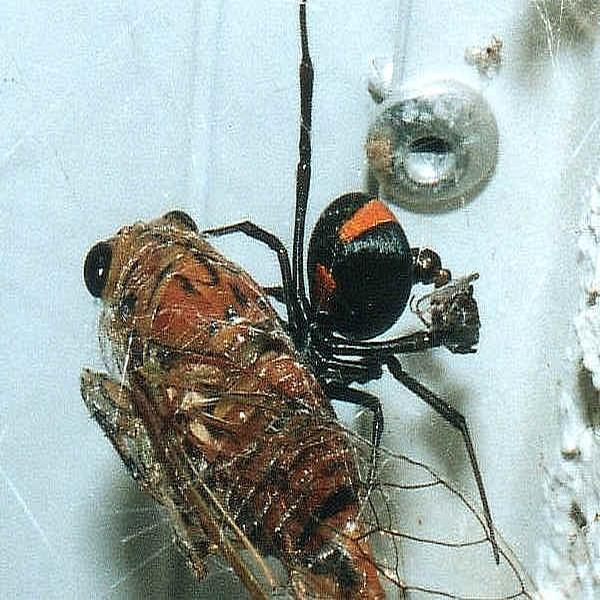Redback Spider: (211, 3, 511, 558)
